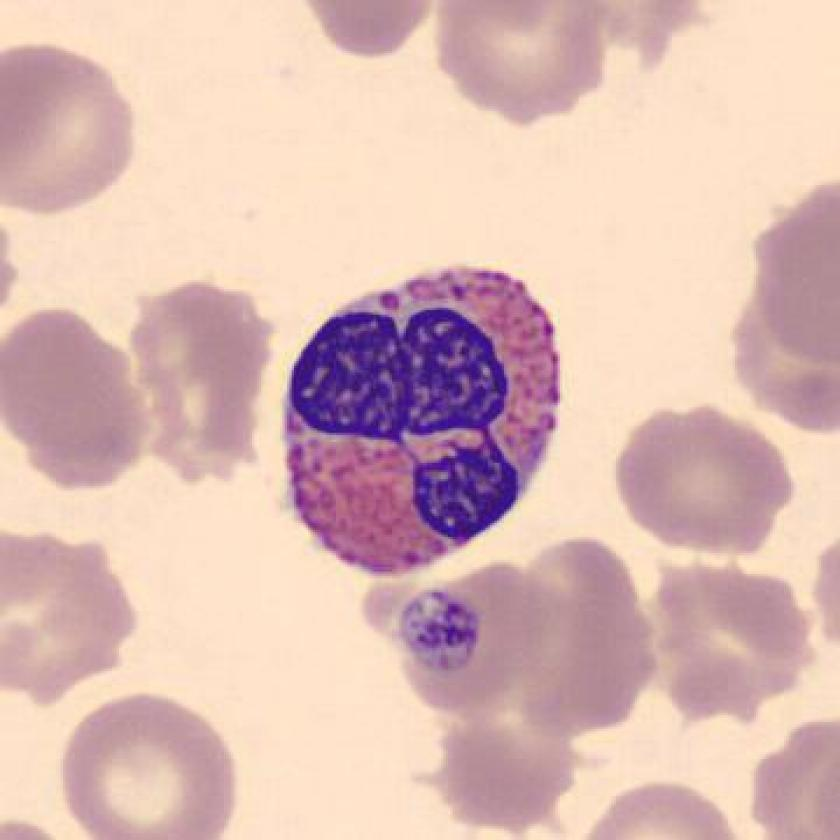eosinophil: (272, 254, 577, 587)
